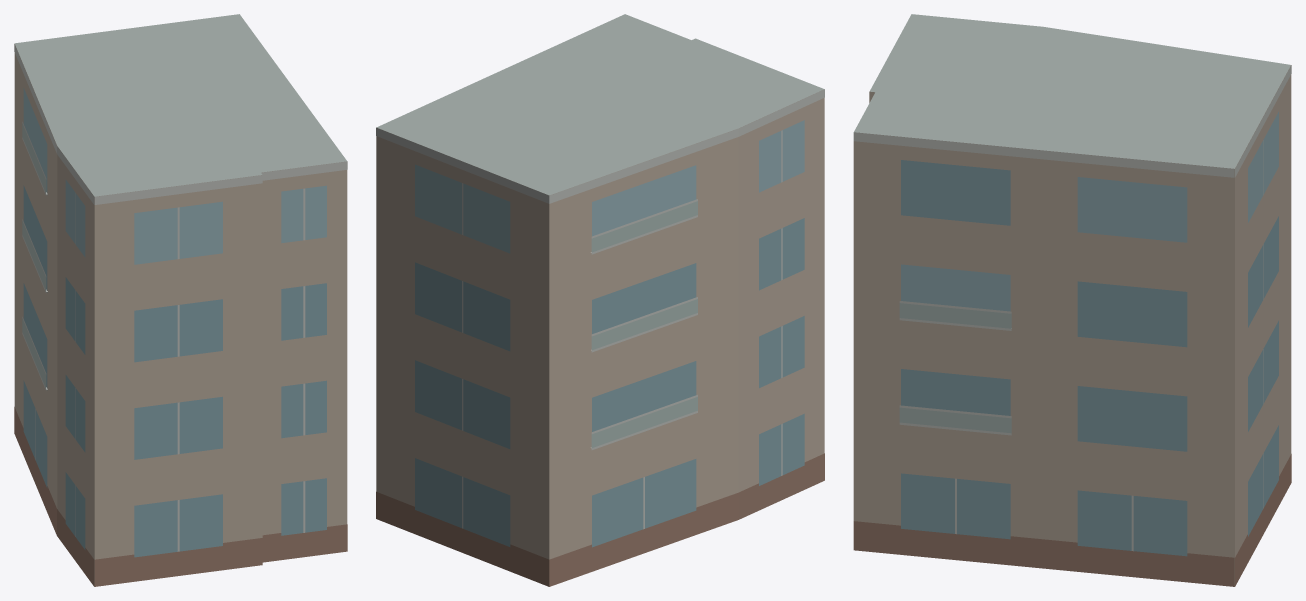
File: survey-upis-33005700.glb
3 views of the same model, side by side, from view 1: azimuth 30°, elevation 25°; view 2: azimuth 150°, elevation 25°; view 3: azimuth 270°, elevation 25° (orthographic). The views are drawn at different scales.
Parts seen in each view (by area): view 1: survey-upis-33005700.tmp; view 2: survey-upis-33005700.tmp; view 3: survey-upis-33005700.tmp.
Boxes of the visible parts, x1=… form: survey-upis-33005700.tmp: x1=14, y1=14, x2=347, y2=586; survey-upis-33005700.tmp: x1=376, y1=14, x2=824, y2=586; survey-upis-33005700.tmp: x1=853, y1=14, x2=1291, y2=586.
Size of the model in its own units: 8.98 by 11.3 by 10.73.
